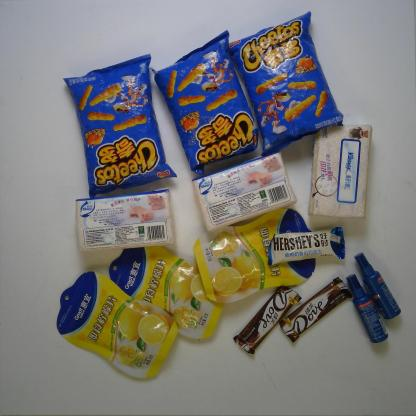Chocolate: (231, 283, 304, 358), (277, 275, 355, 345), (262, 221, 350, 269)
Dried Fruit: (54, 270, 183, 382), (105, 238, 228, 343), (191, 206, 318, 305)
Personal Hygiene: (350, 250, 404, 322), (344, 272, 391, 347)
Puffed Food: (224, 9, 347, 160), (146, 27, 266, 179), (61, 51, 180, 202)
Tissue: (188, 146, 299, 235), (71, 185, 180, 256), (304, 117, 376, 222)
